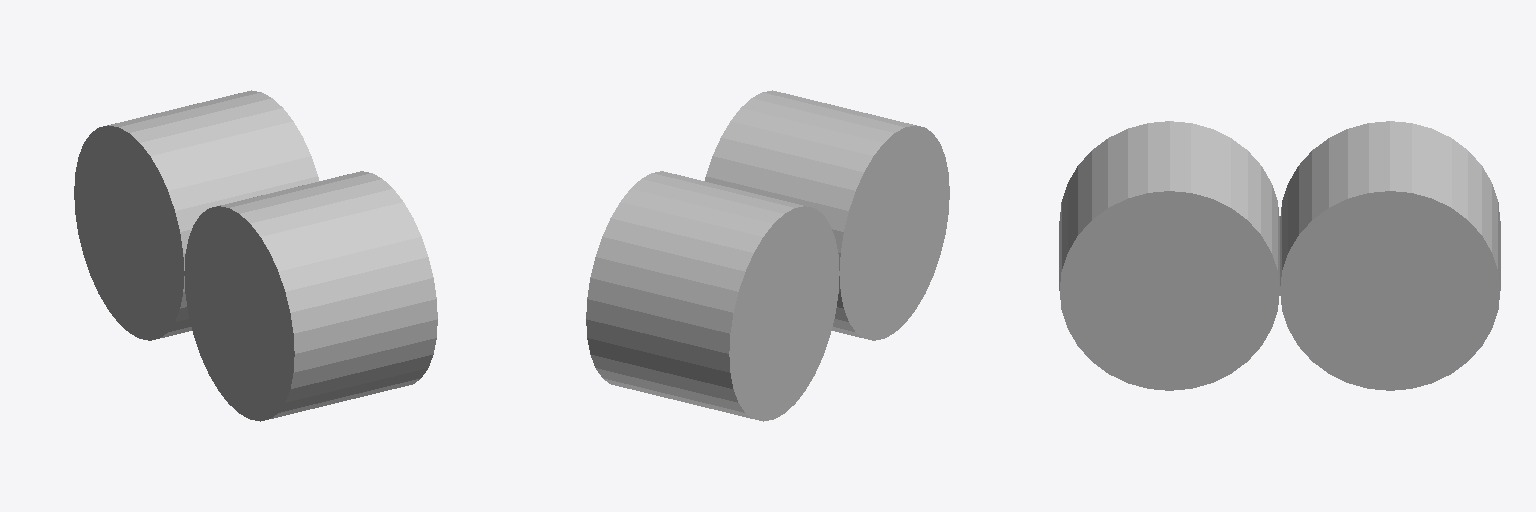
The model's file is bob_body.obj.
3 renders of one model, left to right at view 1: azimuth 30°, elevation 25°; view 2: azimuth 150°, elevation 25°; view 3: azimuth 270°, elevation 25°, orthographic.
Parts seen in each view (by area): view 1: Cylinder_Cylinder.001, Cylinder.001; view 2: Cylinder.001, Cylinder_Cylinder.001; view 3: Cylinder_Cylinder.001, Cylinder.001.
Boxes of the visible parts, box(x1,y1,x2,y2) form: Cylinder_Cylinder.001: box(184, 171, 437, 421); Cylinder.001: box(74, 90, 318, 340); Cylinder.001: box(586, 171, 839, 421); Cylinder_Cylinder.001: box(705, 90, 949, 340); Cylinder_Cylinder.001: box(1059, 121, 1279, 390); Cylinder.001: box(1280, 121, 1500, 390).
Bounding box in the file's own units: 0.3 × 0.4 × 0.8.